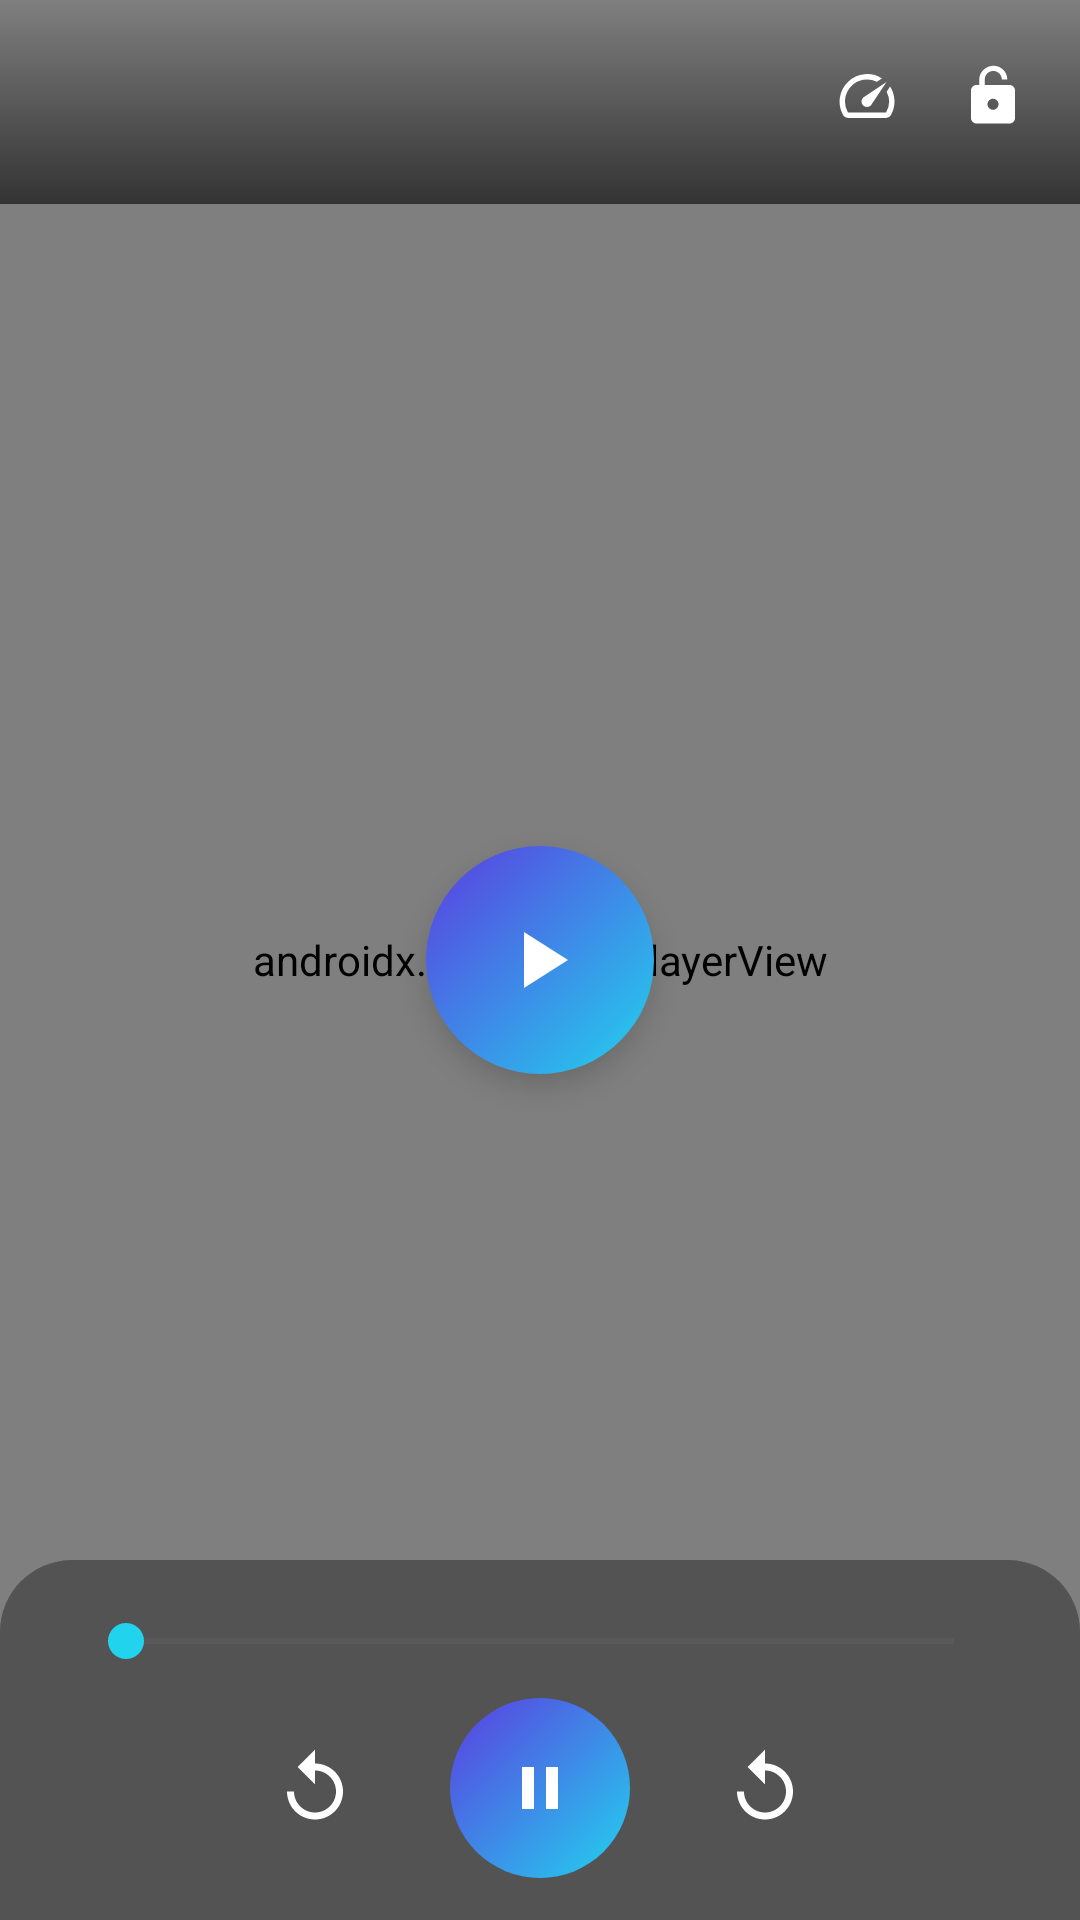

Icon click points for this 1080w x 1920h phone screenshot, format point (x, y):
play hero: point (540, 960)
ترجيع 10 ثواني: point (315, 1785)
